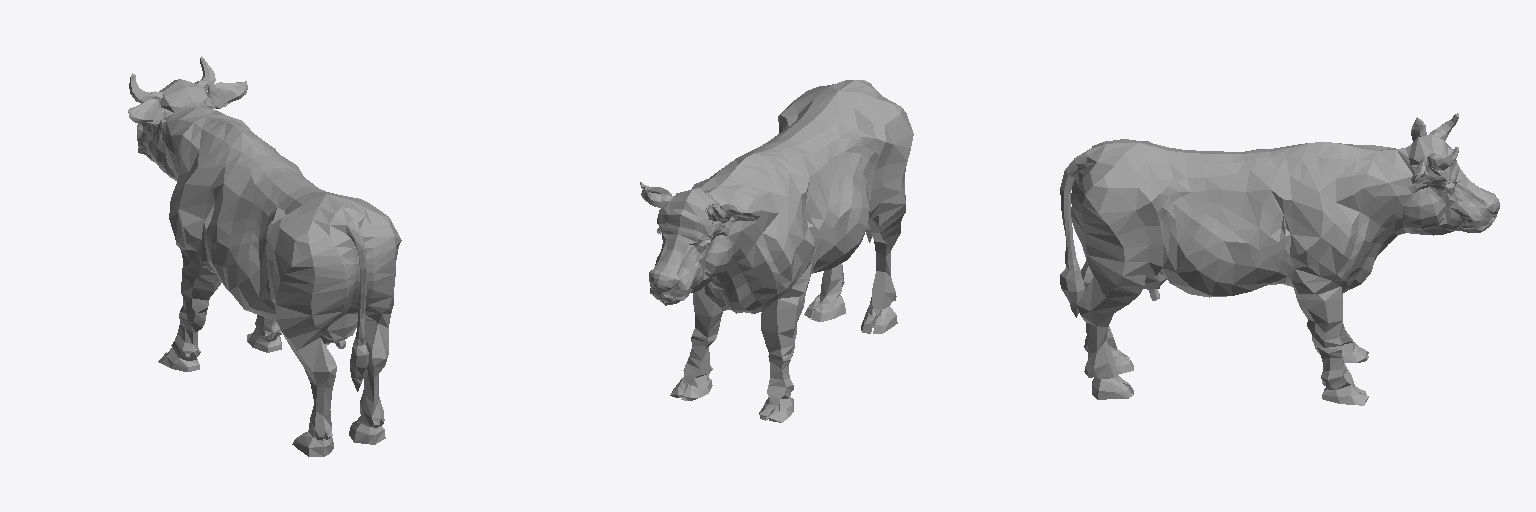
Rendered from cowTM08New00RTime02-tri-norm.obj.
3 renders of one model, left to right at view 1: azimuth 30°, elevation 25°; view 2: azimuth 150°, elevation 25°; view 3: azimuth 270°, elevation 25°, orthographic.
Size of the model in its own units: 3.07 by 6.22 by 9.84.